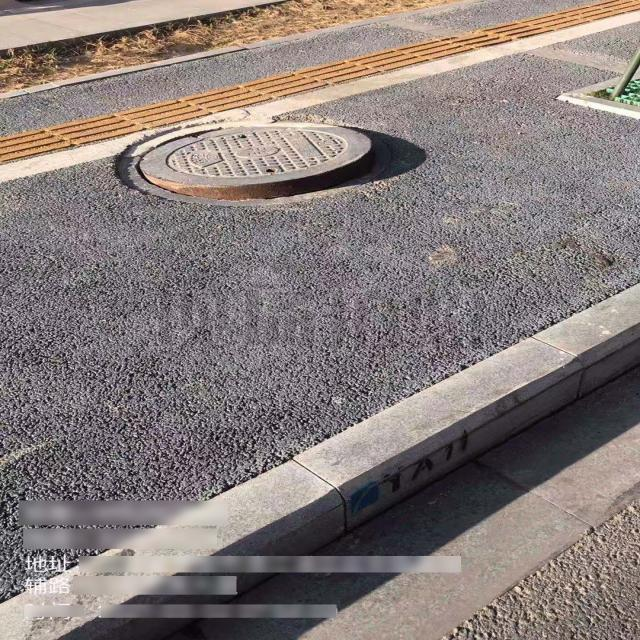Lose: (118, 123, 371, 203)
